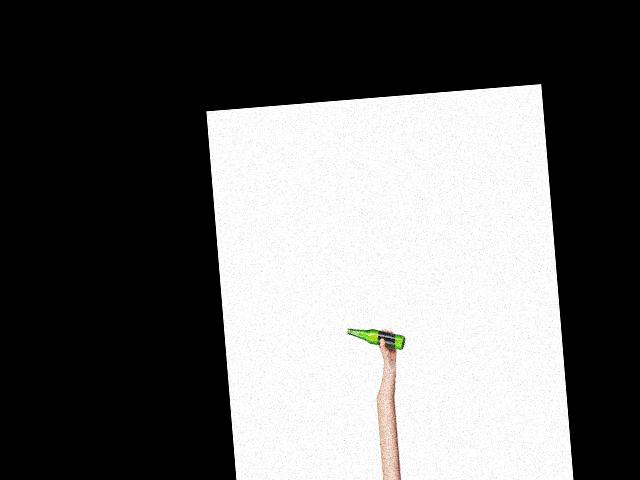beer: (346, 323, 406, 354)
